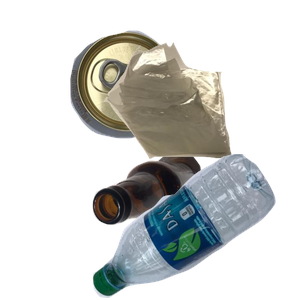glass: (90, 148, 300, 300)
metal: (68, 28, 237, 159)
plastic: (90, 154, 300, 300)
trash: (101, 40, 300, 192)
